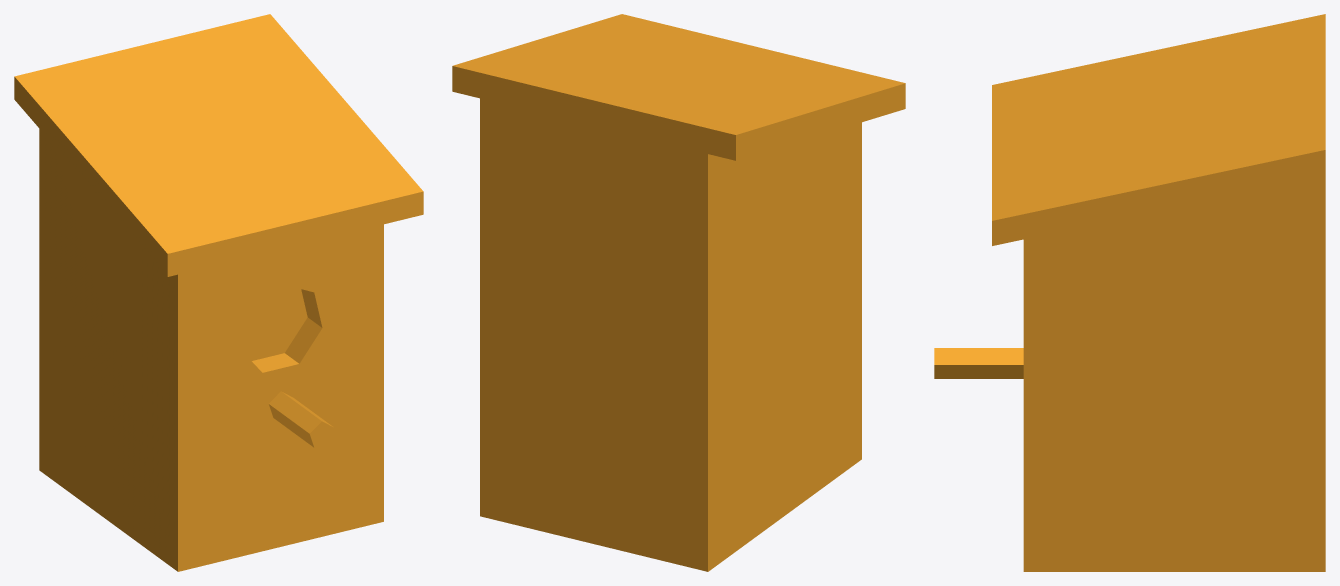
File: SM_Birdhouse_B.fbx
3 views of the same model, side by side, from view 1: azimuth 30°, elevation 25°; view 2: azimuth 150°, elevation 25°; view 3: azimuth 270°, elevation 25° (orthographic). The views are drawn at different scales.
Visible parts, largest first — view 1: birdhouse-b; view 2: birdhouse-b; view 3: birdhouse-b.
Part boxes in pixels (x1,y1,x2,y2): birdhouse-b: (14,14,423,571); birdhouse-b: (452,14,905,571); birdhouse-b: (934,14,1325,571).
Bounding box in the file's own units: 0.1503 × 0.2245 × 0.1828.
